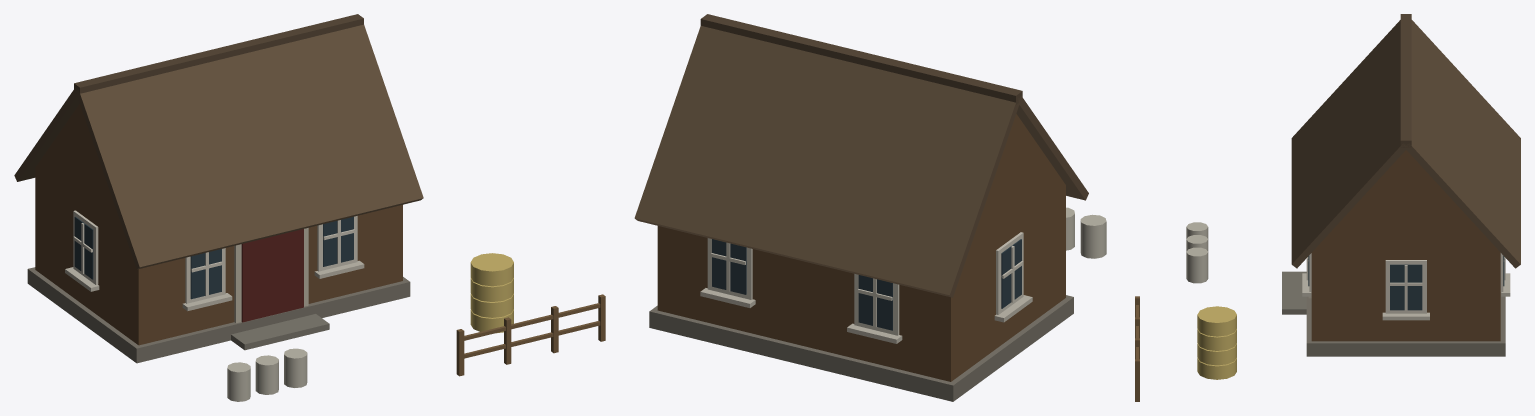
File: procedural_dairy@3.glb
3 renders of one model, left to right at view 1: azimuth 30°, elevation 25°; view 2: azimuth 150°, elevation 25°; view 3: azimuth 270°, elevation 25°, orthographic. The views are drawn at different scales.
Parts seen in each view (by area): view 1: part_0; view 2: part_0; view 3: part_0.
Part boxes in pixels (<box>): part_0: <box>14,14,605,401</box>; part_0: <box>634,14,1106,401</box>; part_0: <box>1135,14,1520,401</box>.
Size of the model in its own units: 8.06 by 4.85 by 7.75.
